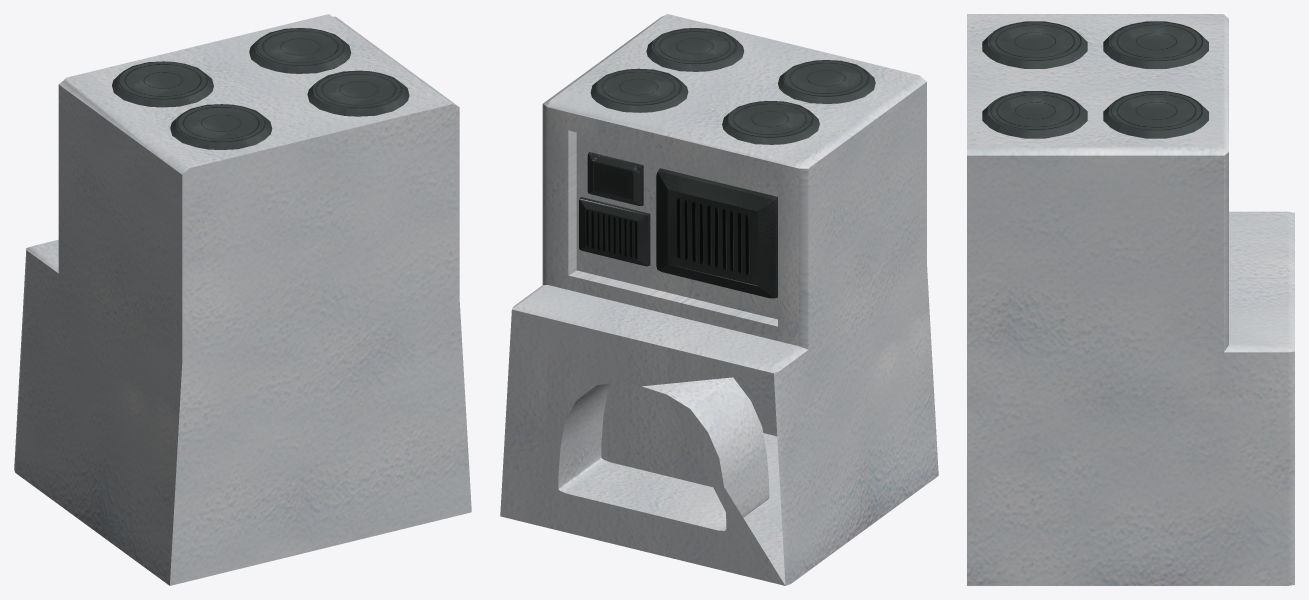
File: Oven.fbx
3 renders of one model, left to right at view 1: azimuth 30°, elevation 25°; view 2: azimuth 150°, elevation 25°; view 3: azimuth 270°, elevation 25°, orthographic. The views are drawn at different scales.
Parts seen in each view (by area): view 1: pCube5; view 2: pCube5, pCube6, pCube8, pCube7; view 3: pCube5.
Boxes of the visible parts, <box> form: pCube5: <box>14,14,471,585</box>; pCube5: <box>500,14,938,585</box>; pCube6: <box>656,168,777,298</box>; pCube8: <box>579,197,650,266</box>; pCube7: <box>587,152,643,205</box>; pCube5: <box>967,14,1294,585</box>.
Size of the model in its own units: 77.69 by 103 by 70.35.
Materials: 3 (2 with a texture image).
